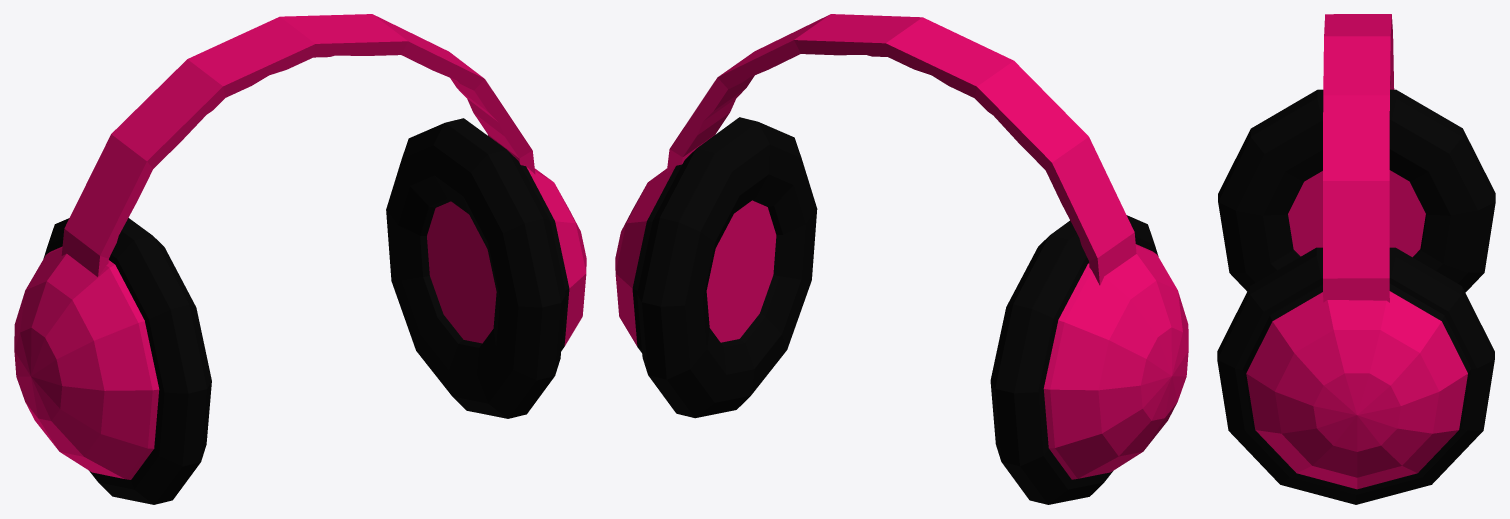
File: headphone.fbx
The picture shows the model from 3 angles, left to right: view 1: azimuth 30°, elevation 25°; view 2: azimuth 150°, elevation 25°; view 3: azimuth 270°, elevation 25°; orthographic projection. The views are drawn at different scales.
Visible parts, largest first — view 1: HEADPHONE_2obj:Mesh; view 2: HEADPHONE_2obj:Mesh; view 3: HEADPHONE_2obj:Mesh.
Part boxes in pixels (x1,y1,x2,y2): HEADPHONE_2obj:Mesh: (14,14,586,504); HEADPHONE_2obj:Mesh: (615,14,1188,504); HEADPHONE_2obj:Mesh: (1217,14,1495,504).
Bounding box in the file's own units: 6.55 × 4.89 × 3.2.
